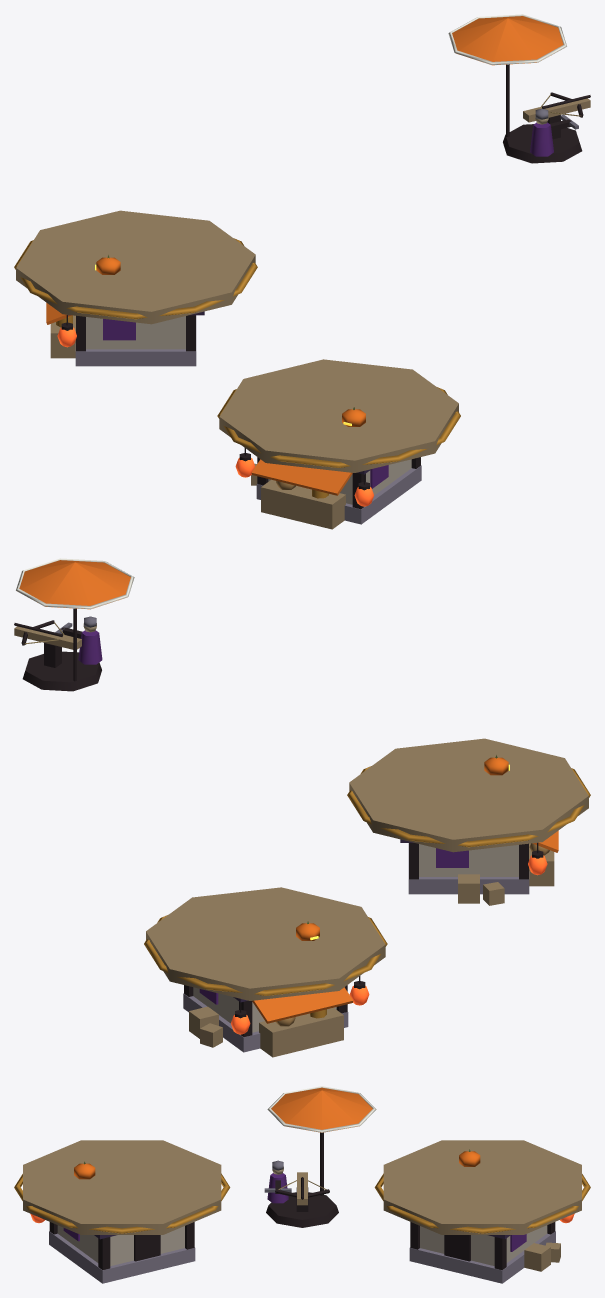
Rendered from base_merchant_weapon_2.glb.
The picture shows the model from 3 angles, top to bottom: view 1: azimuth 30°, elevation 25°; view 2: azimuth 150°, elevation 25°; view 3: azimuth 270°, elevation 25°; orthographic projection. The views are drawn at different scales.
Visible parts, largest first — view 1: tower_slot_2_plate, tower_slot_1_plate, parasol, tower_slot_2_counter, tower_slot_1_house, tower_slot_1_plinth, tower_slot_2_awning, weapon_mount, tower_slot_2_plinth, tower_slot_1_trim, tower_slot_2_trim, parasol_trim (+3 smaller); view 2: tower_slot_1_plate, tower_slot_2_plate, parasol, tower_slot_1_counter, tower_slot_2_house, weapon_mount, tower_slot_1_awning, tower_slot_2_plinth, tower_slot_1_trim, tower_slot_2_trim, tower_slot_1_plinth, tower_slot_1_house (+4 smaller); view 3: tower_slot_1_plate, tower_slot_2_plate, parasol, tower_slot_2_plinth, tower_slot_1_plinth, tower_slot_2_house, tower_slot_1_house, weapon_mount, tower_slot_1_trim, tower_slot_2_trim, parasol_trim, tower_slot_1_crate_0 (+8 smaller).
Part boxes in pixels (<box>): tower_slot_2_plate: <box>219,359,458,472</box>; tower_slot_1_plate: <box>16,210,255,324</box>; parasol: <box>452,16,563,65</box>; tower_slot_2_counter: <box>261,479,345,529</box>; tower_slot_1_house: <box>86,316,185,349</box>; tower_slot_1_plinth: <box>75,315,196,366</box>; tower_slot_2_awning: <box>251,459,352,495</box>; weapon_mount: <box>503,124,582,163</box>; tower_slot_2_plinth: <box>256,465,421,524</box>; tower_slot_1_trim: <box>14,238,257,319</box>; tower_slot_2_trim: <box>217,387,460,467</box>; parasol_trim: <box>448,14,566,65</box>; tower_slot_1_plate: <box>146,887,385,1000</box>; tower_slot_2_plate: <box>349,738,588,852</box>; parasol: <box>19,560,130,609</box>; tower_slot_1_counter: <box>259,1007,343,1057</box>; tower_slot_2_house: <box>419,844,518,876</box>; weapon_mount: <box>22,651,101,691</box>; tower_slot_1_awning: <box>252,987,353,1023</box>; tower_slot_2_plinth: <box>408,843,529,894</box>; tower_slot_1_trim: <box>144,915,387,995</box>; tower_slot_2_trim: <box>347,766,590,847</box>; tower_slot_1_plinth: <box>183,993,348,1052</box>; tower_slot_1_house: <box>193,987,336,1032</box>; tower_slot_1_plate: <box>383,1140,581,1234</box>; tower_slot_2_plate: <box>23,1140,221,1234</box>; parasol: <box>271,1087,372,1132</box>; tower_slot_2_plinth: <box>49,1231,195,1283</box>; tower_slot_1_plinth: <box>409,1231,555,1283</box>; tower_slot_2_house: <box>57,1225,184,1265</box>; tower_slot_1_house: <box>420,1225,547,1265</box>; weapon_mount: <box>266,1192,338,1227</box>; tower_slot_1_trim: <box>374,1173,590,1233</box>; tower_slot_2_trim: <box>14,1173,230,1233</box>; parasol_trim: <box>267,1086,376,1132</box>; tower_slot_1_crate_0: <box>524,1243,550,1271</box>.
Size of the model in its own units: 0.963 by 0.6435 by 1.18.
